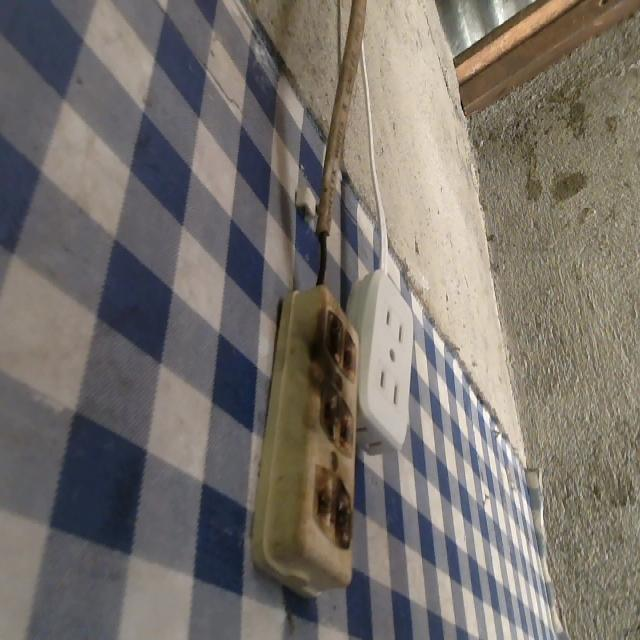-: (314, 467, 357, 548), (318, 302, 360, 374), (314, 386, 357, 454)
